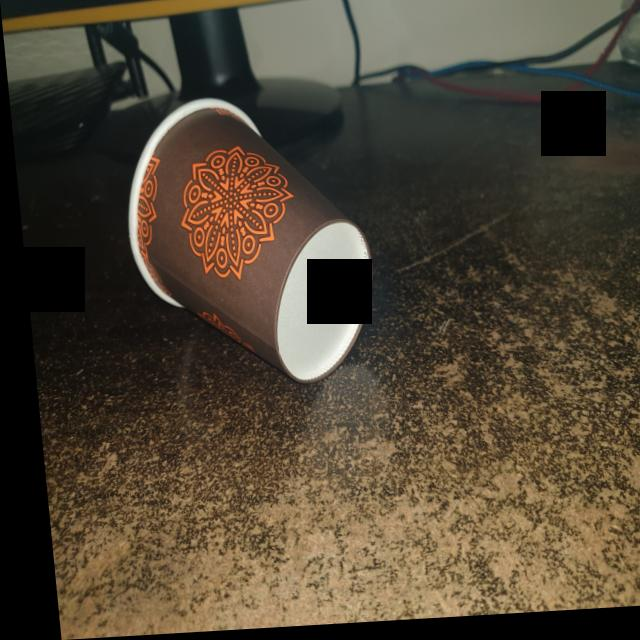cups: (108, 86, 384, 402)
